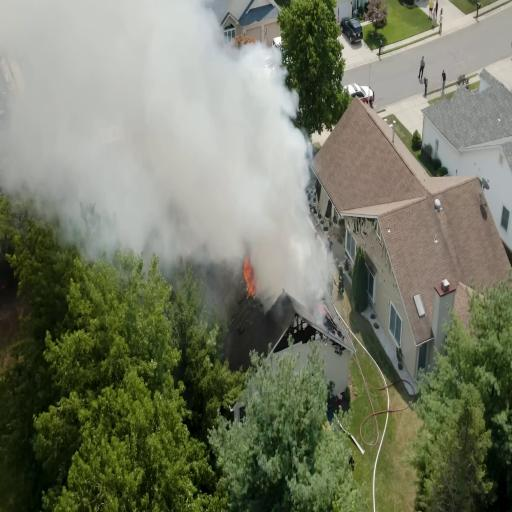smoke: (0, 0, 188, 170), (74, 0, 184, 256), (158, 53, 284, 222)
